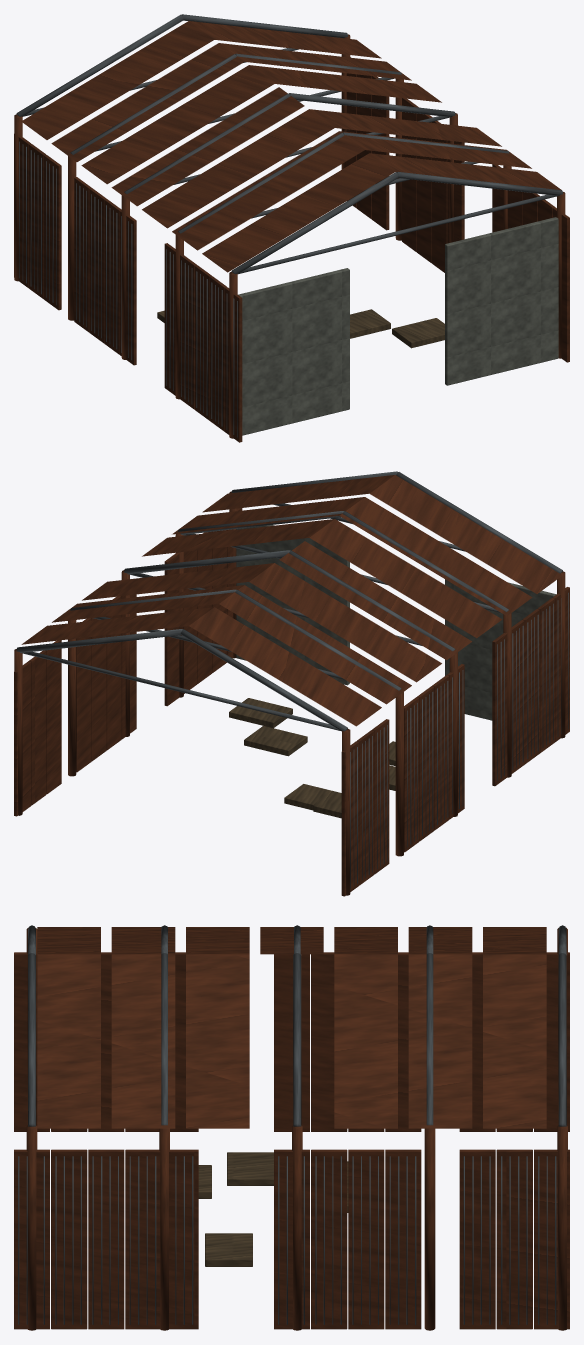
File: warehouse.glb
3 views of the same model, one above another, from view 1: azimuth 30°, elevation 25°; view 2: azimuth 150°, elevation 25°; view 3: azimuth 270°, elevation 25° (orthographic). The views are drawn at different scales.
Parts seen in each view (by area): view 1: Warehouse_front_pier.001, Warehouse_front_pier, Torn_metal_roof.002, Torn_metal_roof, Torn_metal_roof.004, Torn_metal_roof.006, Torn_metal_roof.001, Torn_metal_roof.003, Torn_metal_roof.005, Torn_metal_roof.009, Torn_metal_roof.010, Torn_metal_roof.012 (+42 smaller); view 2: Torn_metal_roof, Torn_metal_roof.002, Torn_metal_roof.004, Torn_metal_roof.006, Torn_metal_roof.005, Torn_metal_roof.003, Torn_metal_roof.001, Warehouse_front_pier, Warehouse_front_pier.001, Torn_metal_roof.010, Torn_metal_roof.012, Torn_metal_roof.007 (+49 smaller); view 3: Torn_metal_roof.007, Torn_metal_roof.009, Torn_metal_roof.010, Torn_metal_roof.012, Torn_metal_roof.008, Torn_metal_roof.011, Corrugated_wall.014, Corrugated_wall.019, Corrugated_wall.021, Corrugated_wall.022, Corrugated_wall.013, Corrugated_wall.018 (+33 smaller).
Part boxes in pixels (bbox=[...]): Warehouse_front_pier.001: bbox=[445, 217, 558, 385]; Warehouse_front_pier: bbox=[238, 268, 349, 435]; Torn_metal_roof.002: bbox=[142, 109, 334, 228]; Torn_metal_roof: bbox=[202, 153, 394, 272]; Torn_metal_roof.004: bbox=[81, 65, 274, 184]; Torn_metal_roof.006: bbox=[21, 21, 214, 139]; Torn_metal_roof.001: bbox=[172, 131, 364, 250]; Torn_metal_roof.003: bbox=[111, 87, 304, 206]; Torn_metal_roof.005: bbox=[51, 43, 244, 161]; Torn_metal_roof.009: bbox=[309, 109, 501, 146]; Torn_metal_roof.010: bbox=[249, 65, 441, 102]; Torn_metal_roof.012: bbox=[189, 21, 381, 58]; Torn_metal_roof: bbox=[369, 475, 562, 593]; Torn_metal_roof.002: bbox=[309, 519, 502, 638]; Torn_metal_roof.004: bbox=[249, 563, 441, 682]; Torn_metal_roof.006: bbox=[189, 607, 381, 726]; Torn_metal_roof.005: bbox=[219, 585, 411, 704]; Torn_metal_roof.003: bbox=[279, 541, 471, 660]; Torn_metal_roof.001: bbox=[339, 497, 532, 615]; Warehouse_front_pier: bbox=[445, 579, 556, 720]; Warehouse_front_pier.001: bbox=[236, 525, 349, 685]; Torn_metal_roof.010: bbox=[82, 563, 274, 600]; Torn_metal_roof.012: bbox=[21, 607, 213, 644]; Torn_metal_roof.007: bbox=[202, 475, 394, 512]; Torn_metal_roof.007: bbox=[37, 954, 100, 1128]; Torn_metal_roof.009: bbox=[186, 954, 249, 1128]; Torn_metal_roof.010: bbox=[334, 954, 397, 1128]; Torn_metal_roof.012: bbox=[483, 954, 546, 1128]; Torn_metal_roof.008: bbox=[111, 954, 175, 1128]; Torn_metal_roof.011: bbox=[408, 954, 472, 1128]; Corrugated_wall.014: bbox=[88, 1149, 124, 1329]; Corrugated_wall.019: bbox=[348, 1149, 384, 1329]; Corrugated_wall.021: bbox=[459, 1149, 495, 1329]; Corrugated_wall.022: bbox=[496, 1149, 532, 1329]; Corrugated_wall.013: bbox=[51, 1149, 87, 1329]; Corrugated_wall.018: bbox=[311, 1149, 347, 1329].
Bounding box in the file's own units: 9 × 5.77 × 10.48.
Materials: 4 (4 with a texture image).
